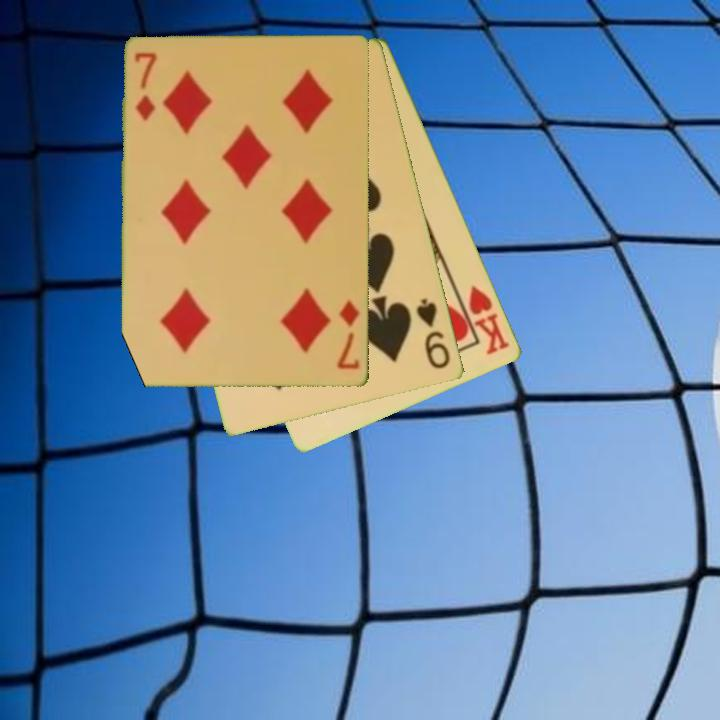7d: (334, 298, 363, 373), (131, 50, 159, 124)
9s: (413, 295, 454, 372)
Kh: (454, 281, 513, 358)
